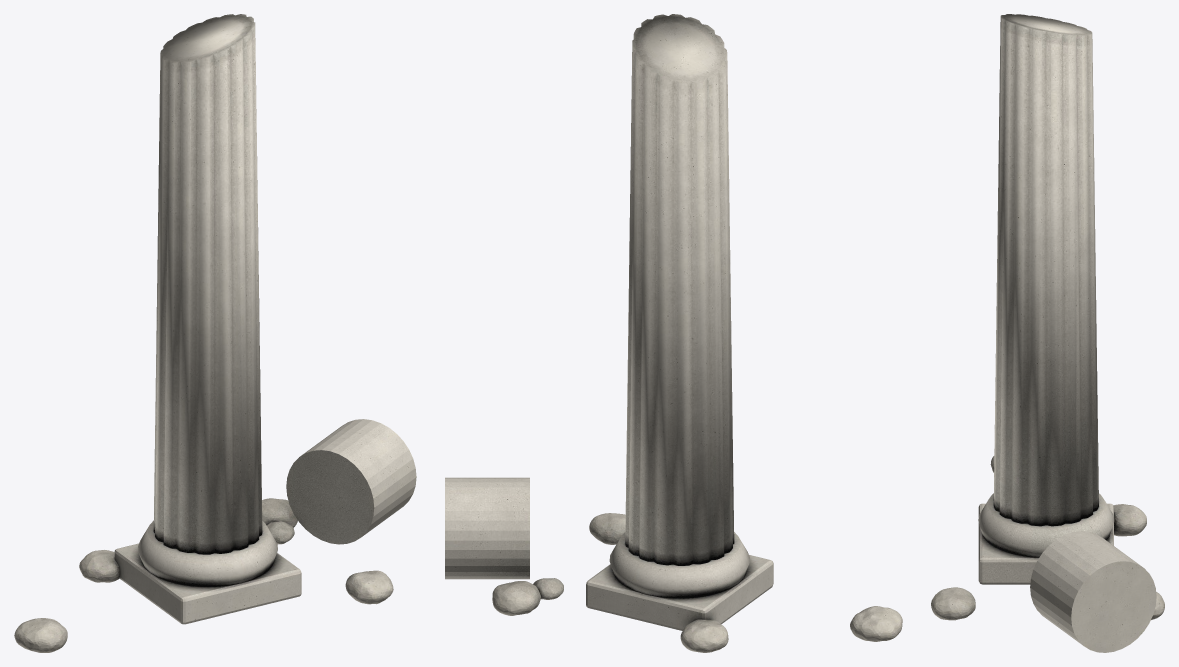
Rendered from acropole_coluna_b.glb.
The picture shows the model from 3 angles, left to right: view 1: azimuth 30°, elevation 25°; view 2: azimuth 150°, elevation 25°; view 3: azimuth 270°, elevation 25°; orthographic projection. The views are drawn at different scales.
Visible parts, largest first — view 1: acropole_coluna_b_tronco; view 2: acropole_coluna_b_tronco; view 3: acropole_coluna_b_tronco.
Part boxes in pixels (box(x1,y1,x2,y2)): acropole_coluna_b_tronco: box(14, 14, 416, 652); acropole_coluna_b_tronco: box(445, 14, 902, 652); acropole_coluna_b_tronco: box(931, 14, 1164, 652).
Bounding box in the file's own units: 4.06 × 5.21 × 1.99.
1 material, 1 textured.
